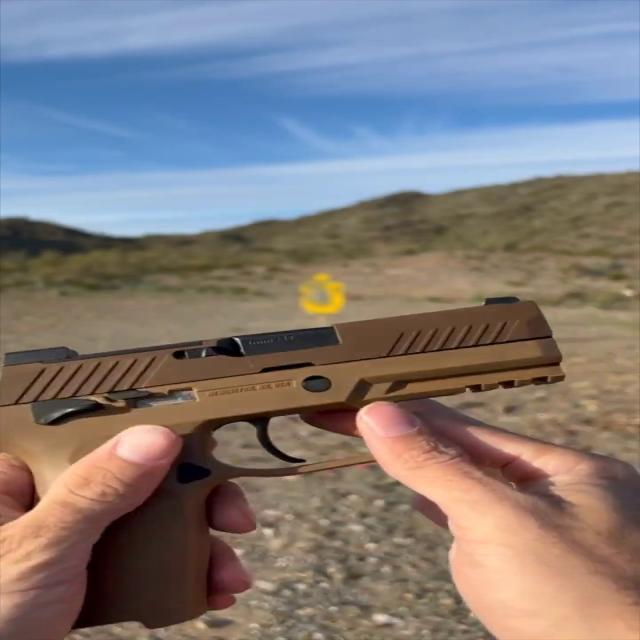Handgun: (0, 280, 580, 635)
